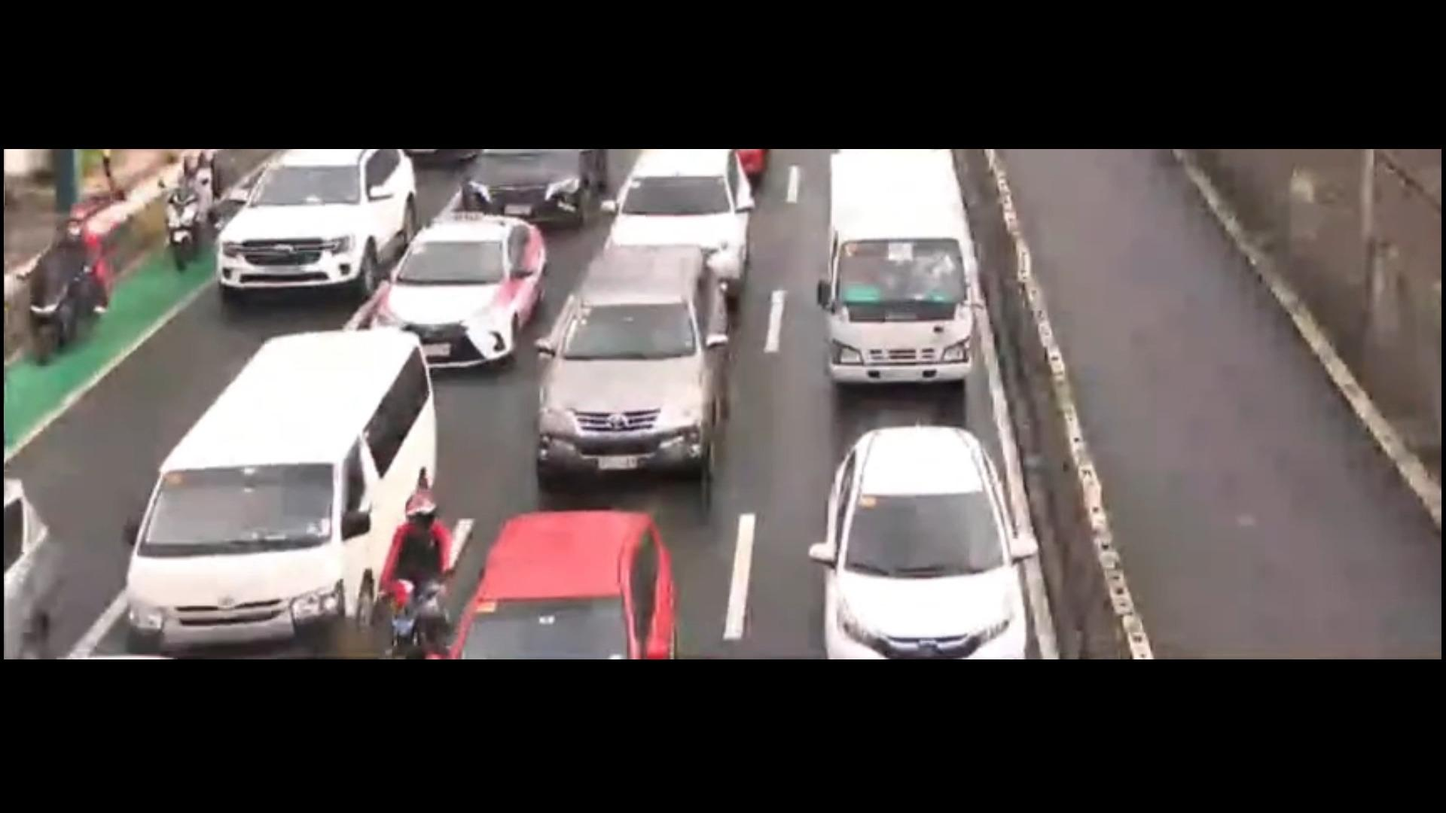Motorcycle: (358, 488, 479, 663), (12, 200, 128, 360), (134, 149, 239, 283)
SUV: (791, 413, 1058, 664), (522, 227, 731, 527), (203, 149, 418, 309), (585, 142, 772, 268), (453, 147, 601, 224)
Sedan: (355, 211, 558, 378)
Truck: (808, 153, 983, 392)
Van: (97, 318, 482, 639)
